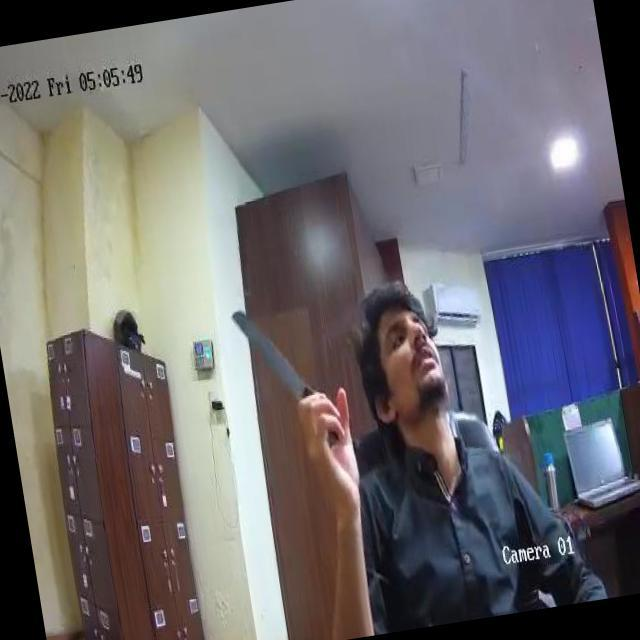Knife: (231, 298, 344, 466)
